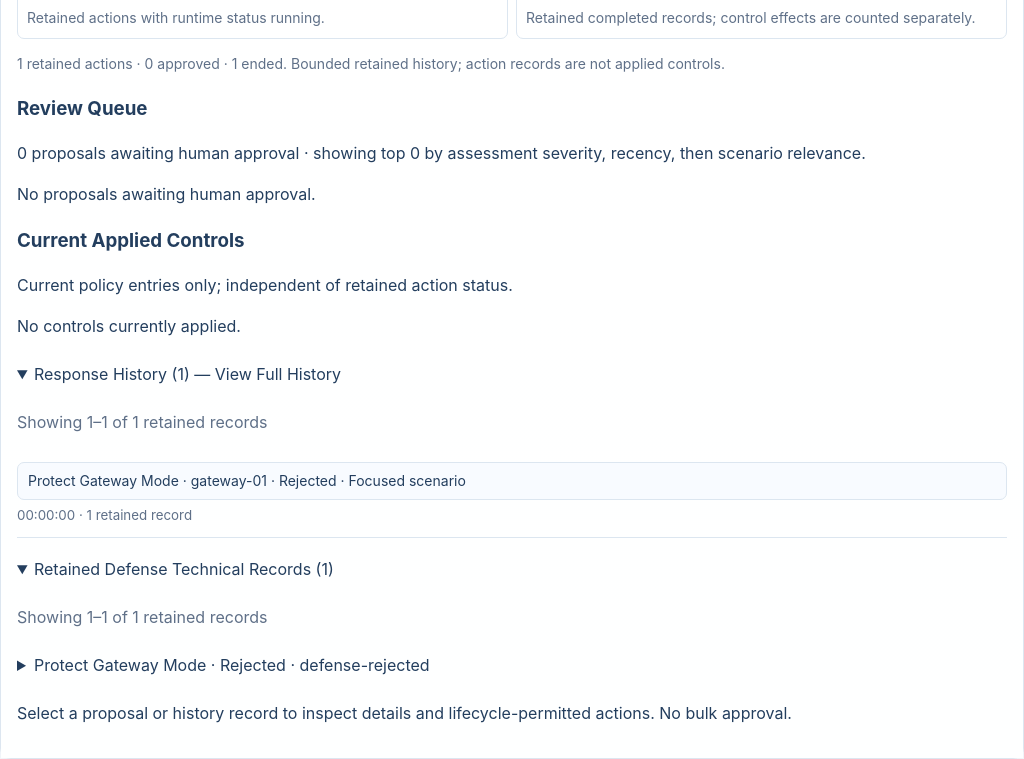
Test: defense lifecycle controls › renders a rejected action as read-only
(page scrolled)
Click the button: coordinates (103, 481) x1=17 y1=462 x2=1007 y2=500
(page scrolled)
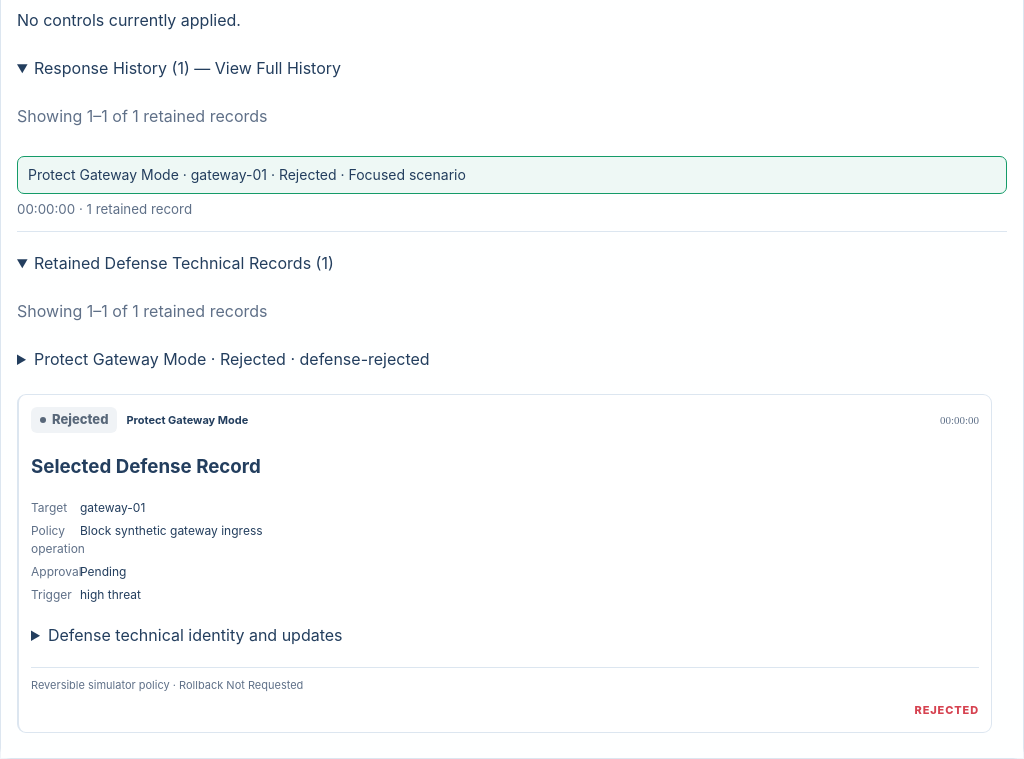
Expected: the text "Rejected" is shown, x1=914 y1=702 x2=979 y2=720
